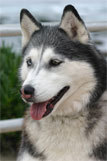dog: (15, 2, 104, 159)
